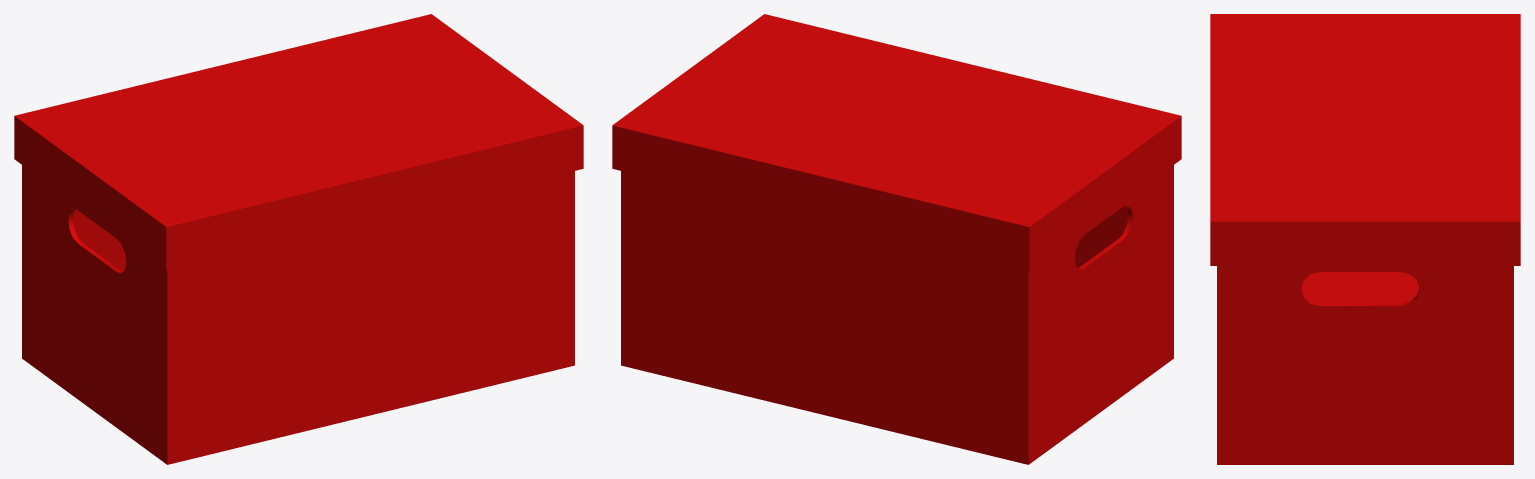
Rendered from Attic_CardboardBox_01_LP.glb.
3 views of the same model, side by side, from view 1: azimuth 30°, elevation 25°; view 2: azimuth 150°, elevation 25°; view 3: azimuth 270°, elevation 25° (orthographic).
Parts seen in each view (by area): view 1: Attic_CardboardBox_01_LP; view 2: Attic_CardboardBox_01_LP; view 3: Attic_CardboardBox_01_LP.
Part boxes in pixels (x1=…): Attic_CardboardBox_01_LP: x1=14, y1=14, x2=583, y2=464; Attic_CardboardBox_01_LP: x1=612, y1=14, x2=1181, y2=464; Attic_CardboardBox_01_LP: x1=1210, y1=14, x2=1520, y2=464.
Bounding box in the file's own units: 0.6088 × 0.3365 × 0.3847.
